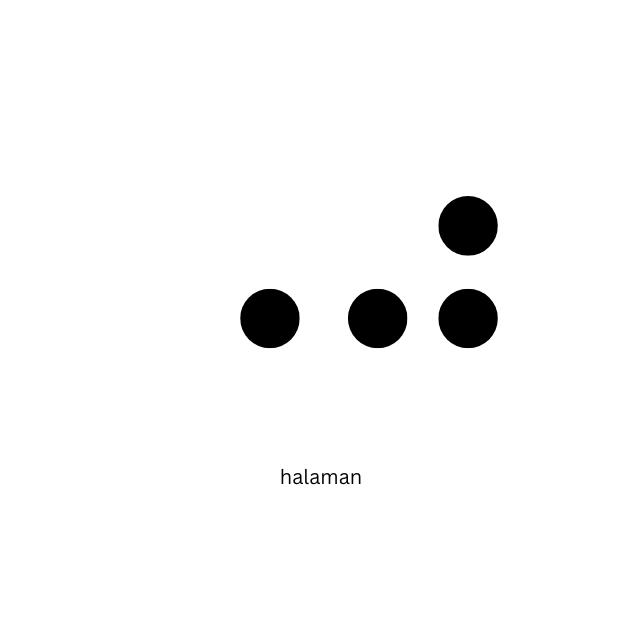dot_5: (148, 194, 301, 445)
two_cell_alphabet_halaman: (347, 193, 500, 444)
